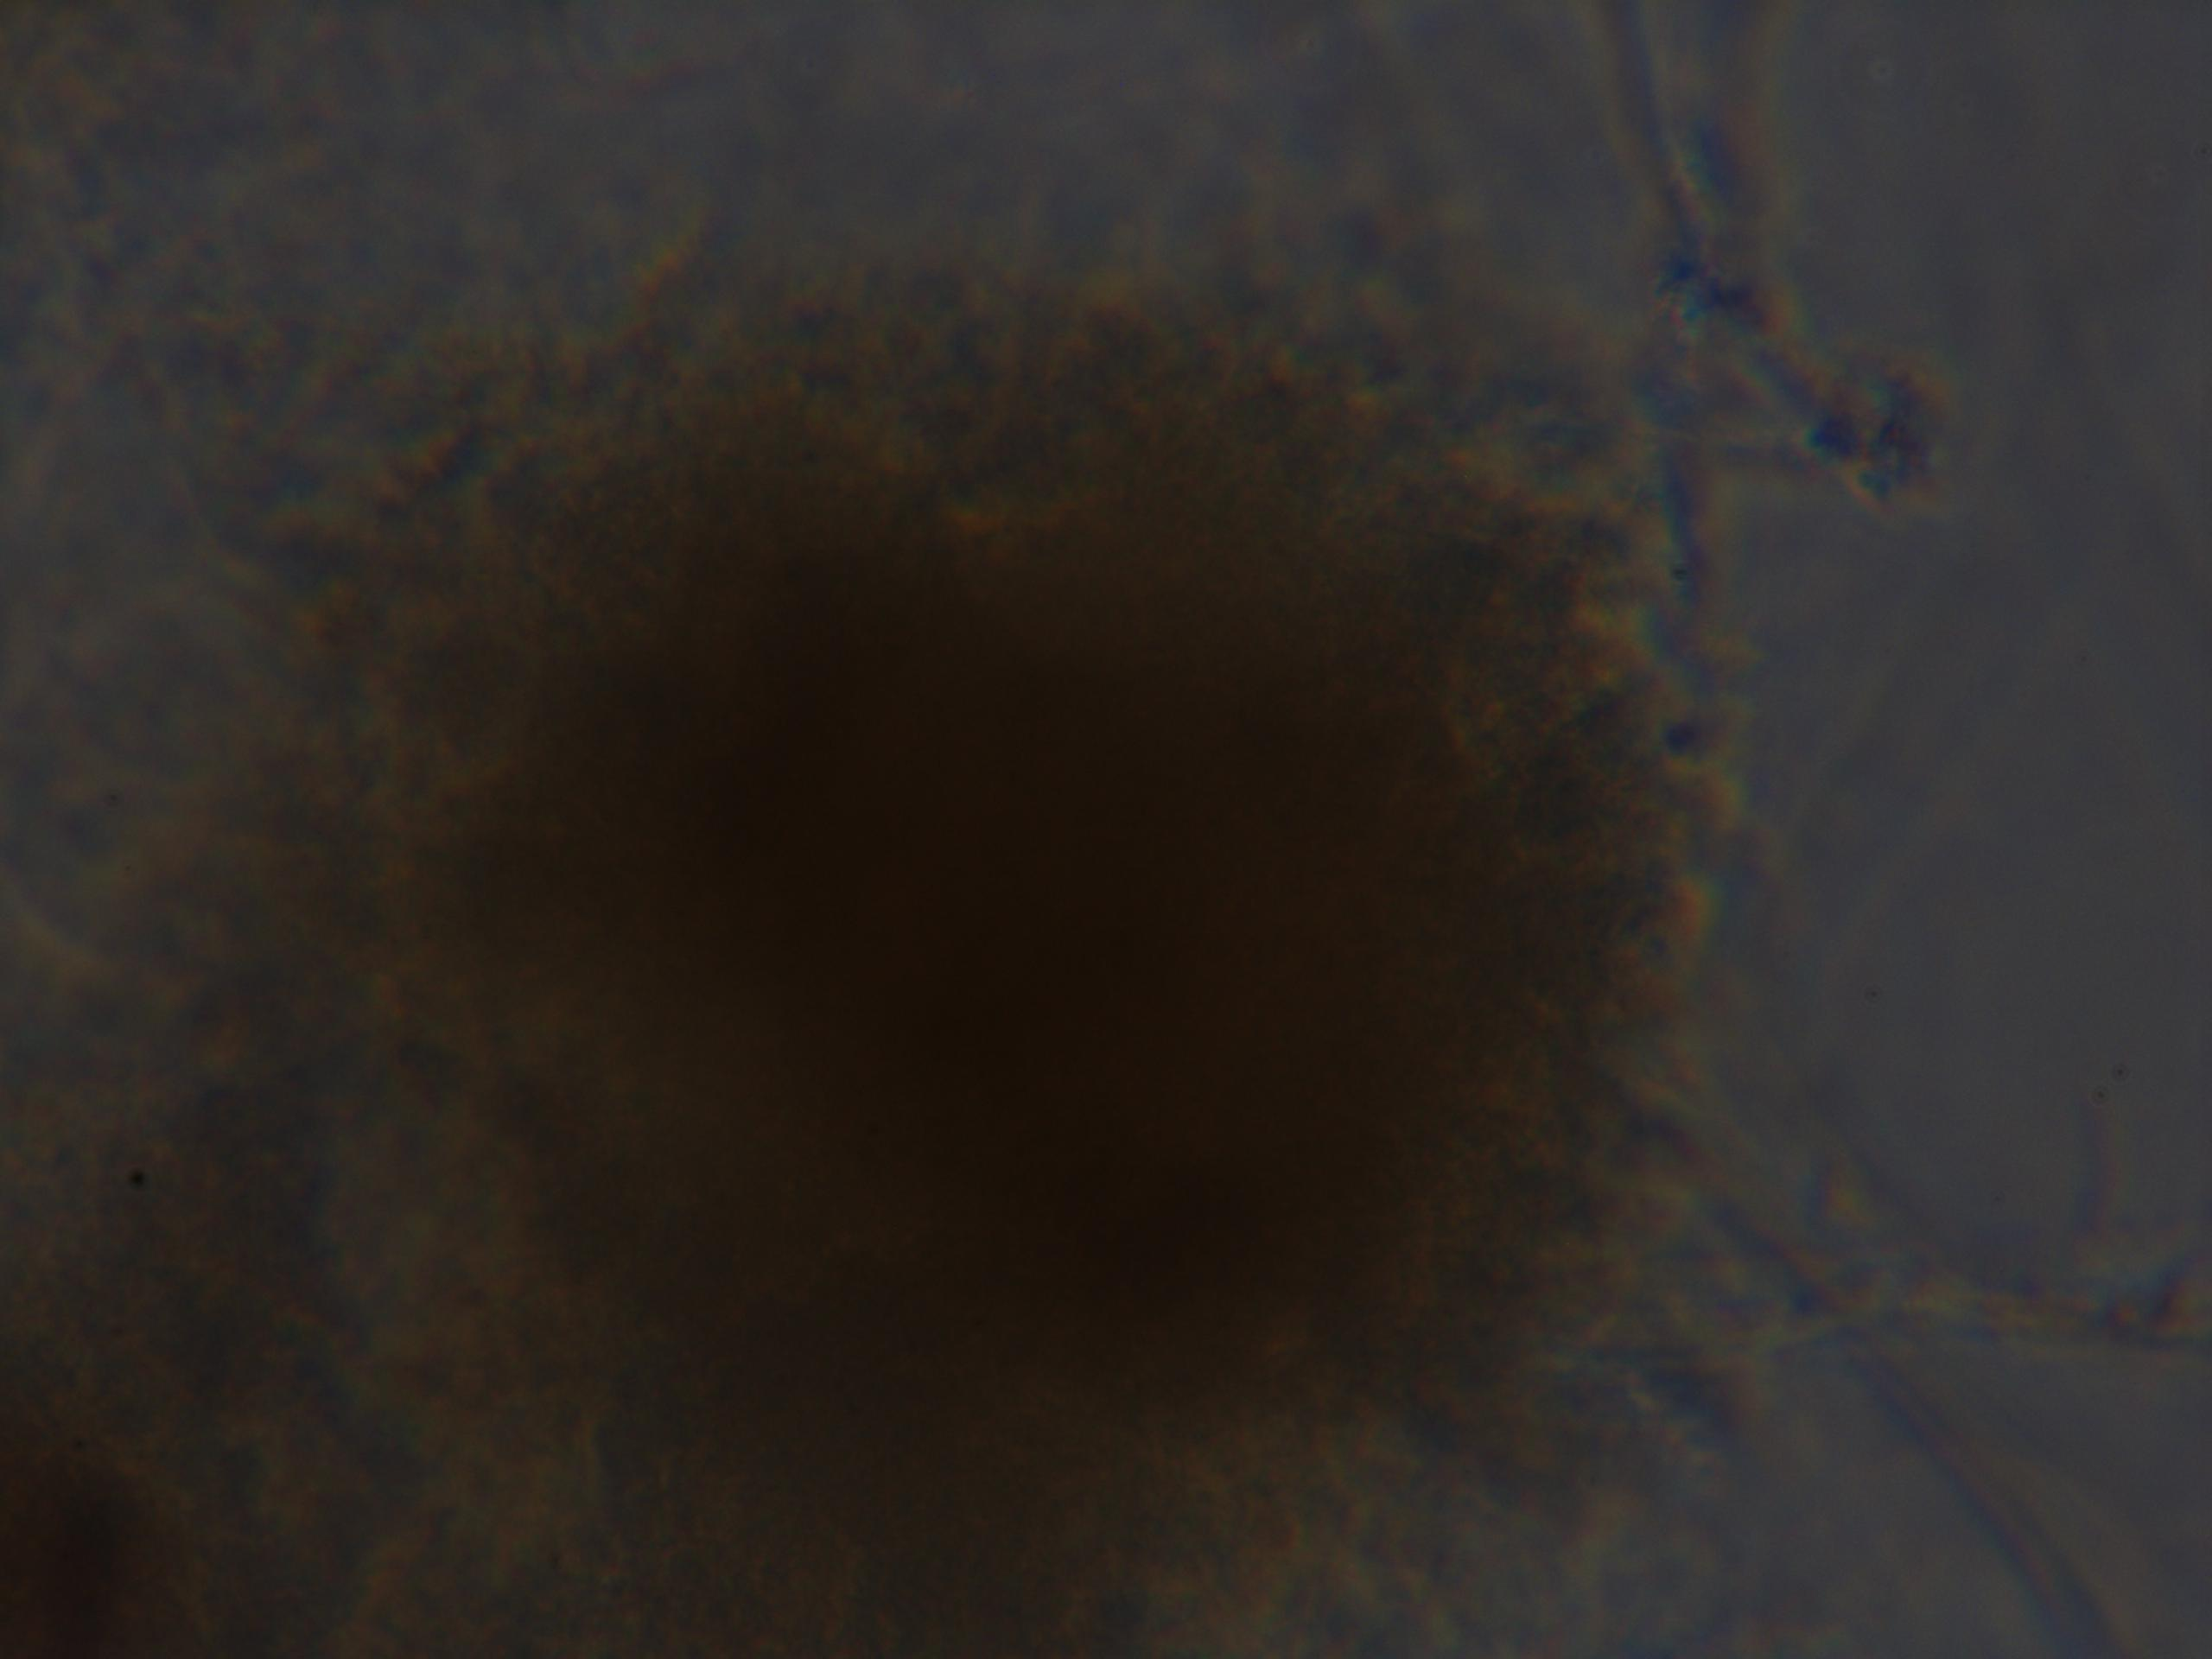filament: (1695, 1183, 2146, 1659), (1580, 0, 1952, 491), (1693, 1237, 2212, 1398)
spherical_floc: (282, 301, 1712, 1659)
